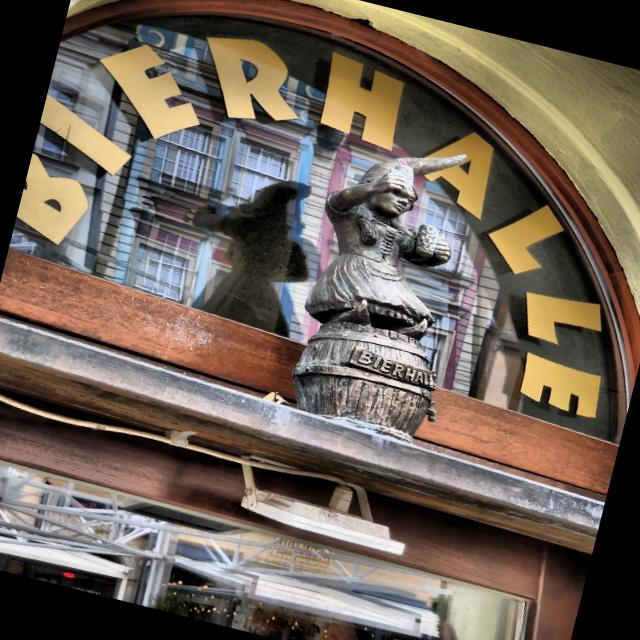Bawarka: (292, 154, 465, 441)
